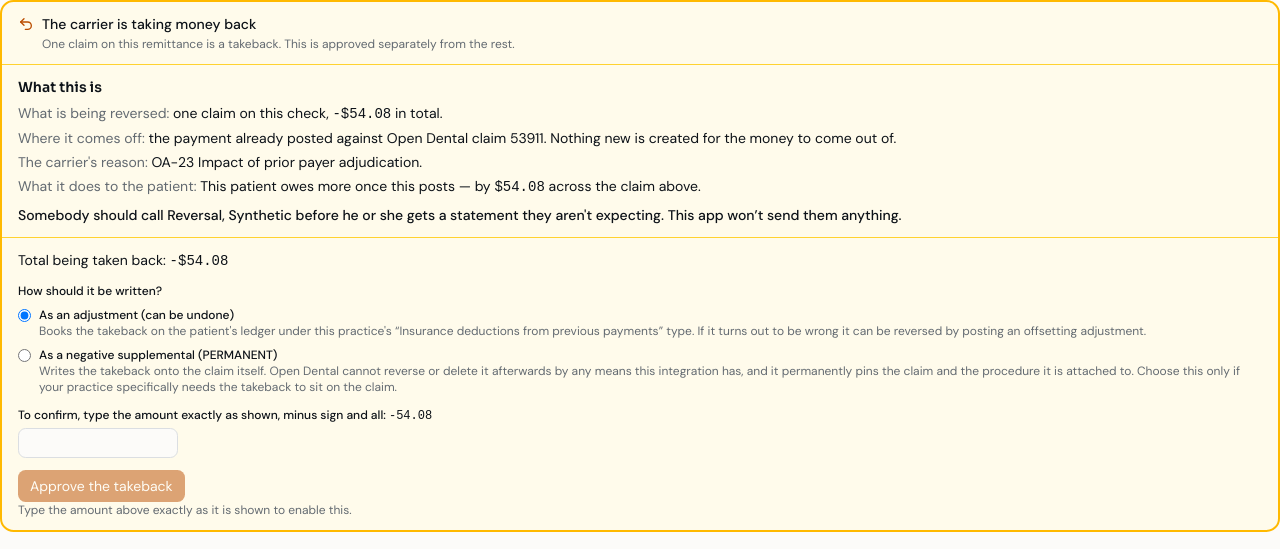
Test: requires the SIGNED form, and the label says which form that is
Note: The unsigned amount is NOT enough.
Step 1. Type "54.08" into the field with test id "recoupment-confirm-input" → (98, 443), box [18,428,178,458]
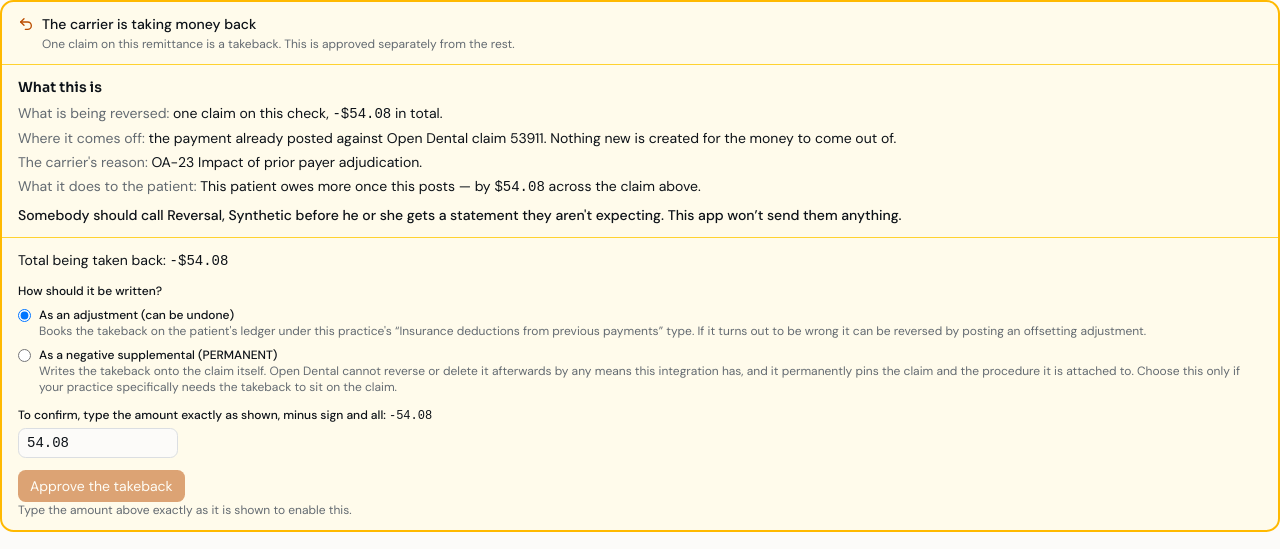
Expected: the button with test id "recoupment-approve-button" is disabled, [18,470,185,502]
Note: The signed one is.
Step 2. Replace the text in the field with test id "recoupment-confirm-input" with "-54.08" → (98, 443), box [18,428,178,458]
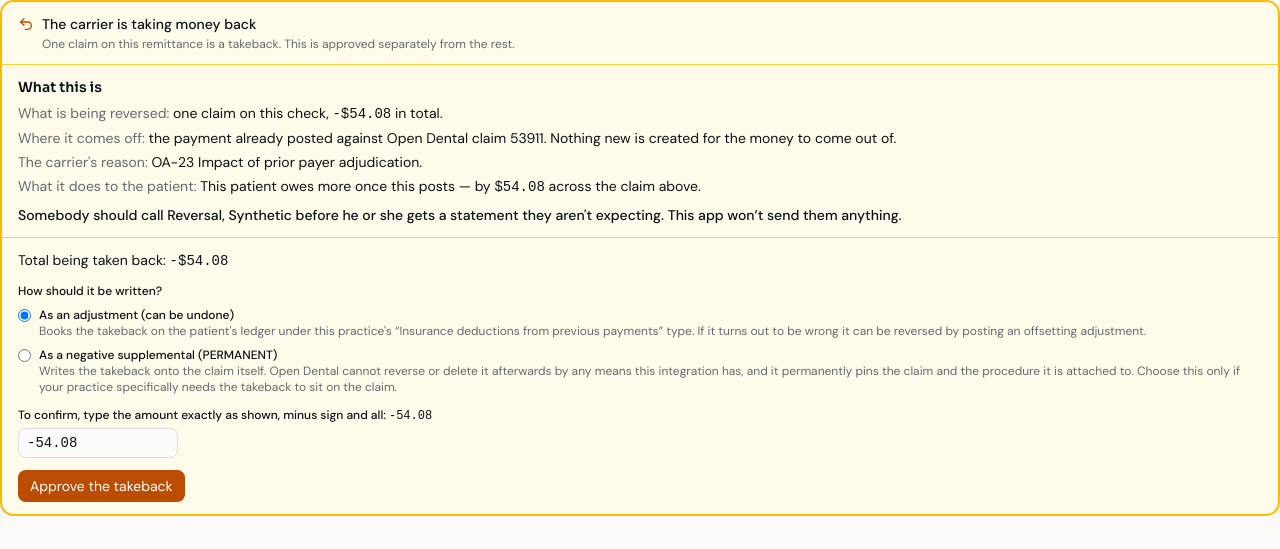
Expected: the text with test id "recoupment-expected" reads "-54.08", [389,409,432,423]
Expected: the button with test id "recoupment-approve-button" is enabled, [18,470,185,502]
